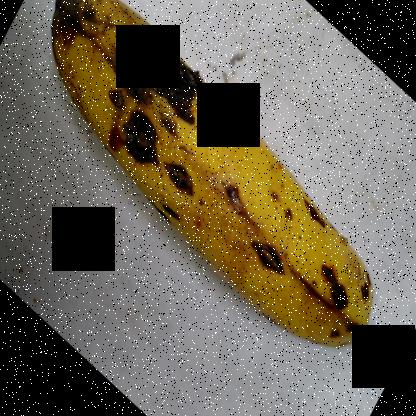rotten: (101, 32, 229, 204), (41, 0, 103, 66), (317, 254, 364, 330), (248, 220, 286, 294), (213, 179, 254, 226), (220, 93, 259, 142), (299, 185, 336, 233)
